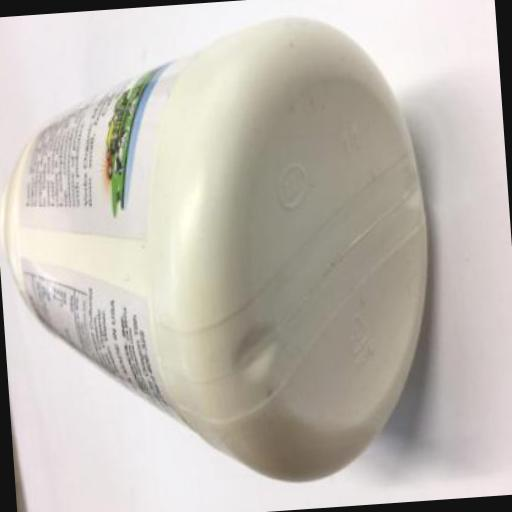plastic: (0, 5, 443, 499)
